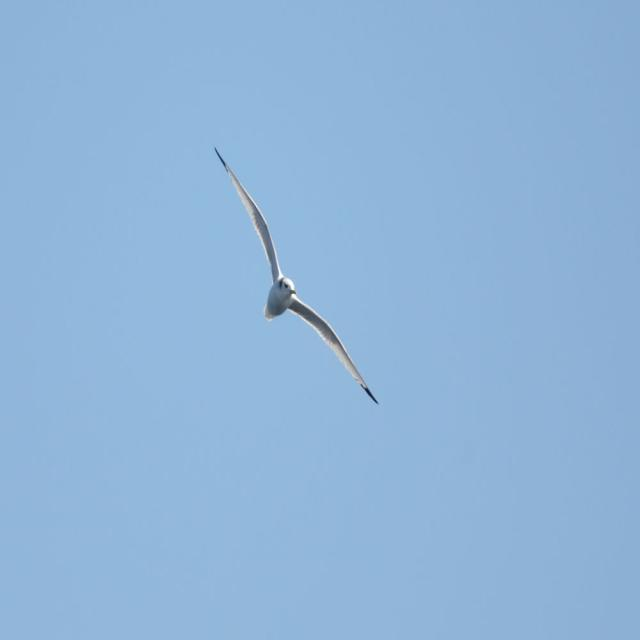bird: (208, 137, 394, 424)
